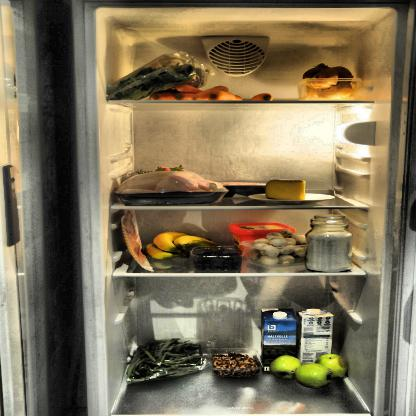apple: (266, 351, 353, 392)
banana: (145, 230, 219, 262)
blueberries: (191, 245, 246, 271)
butter: (229, 221, 295, 243)
carrot: (149, 85, 242, 101), (250, 92, 275, 101)
cheese: (264, 178, 309, 201)
chicken: (115, 168, 229, 206)
green_beans: (127, 337, 209, 386)
milk: (259, 307, 302, 372), (300, 307, 337, 372)
mushrooms: (248, 234, 306, 268)
onion: (297, 63, 364, 102)
shrimp: (210, 348, 258, 379)
spinach: (107, 53, 203, 97)
strawberries: (138, 166, 184, 173)
